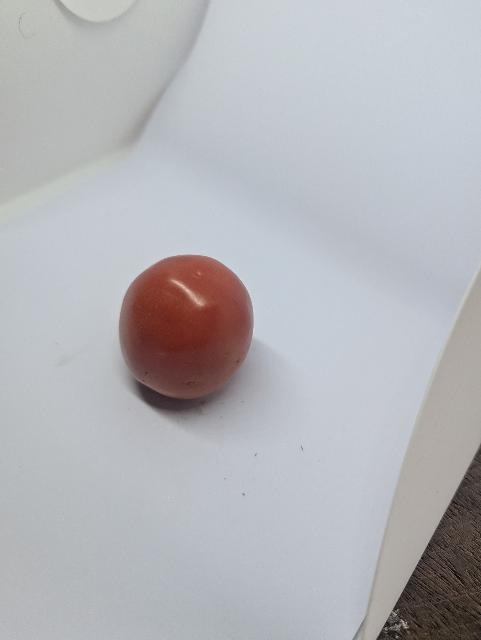red: (113, 248, 272, 425)
